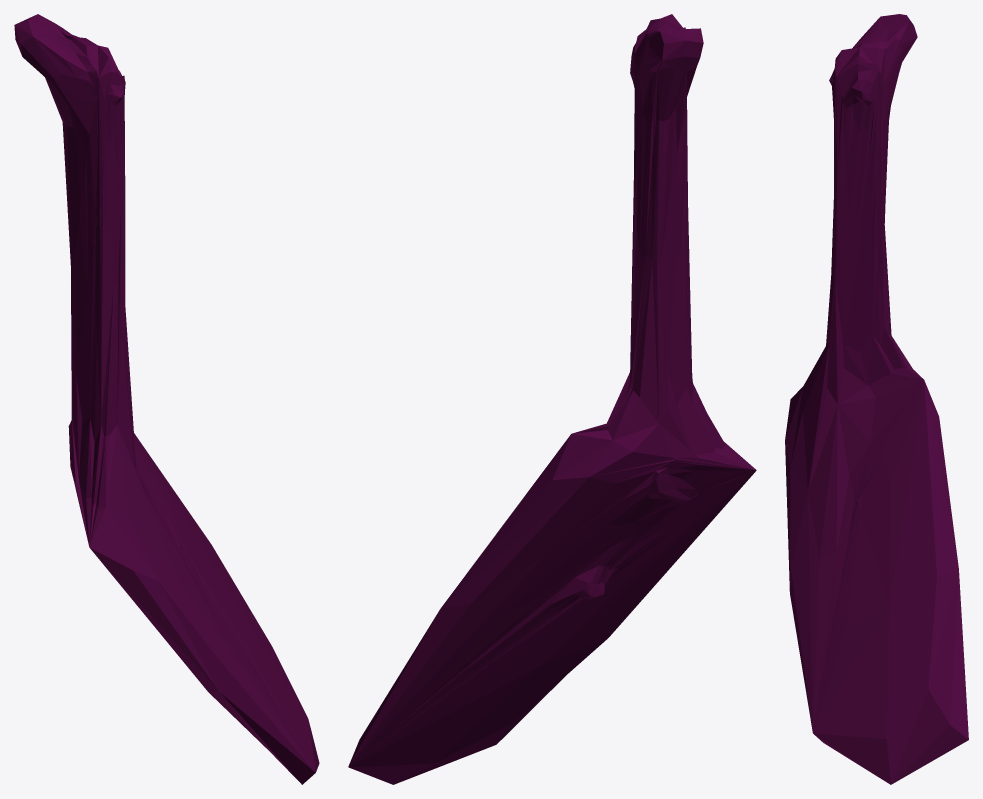
3 renders of one model, left to right at view 1: azimuth 30°, elevation 25°; view 2: azimuth 150°, elevation 25°; view 3: azimuth 270°, elevation 25°, orthographic. The views are drawn at different scales.
Parts seen in each view (by area): view 1: 923_Cube.3732; view 2: 923_Cube.3732; view 3: 923_Cube.3732.
Boxes of the visible parts, x1,y1,x2,y2 form: 923_Cube.3732: (14, 14, 319, 784); 923_Cube.3732: (348, 14, 756, 784); 923_Cube.3732: (785, 14, 968, 784).
Bounding box in the file's own units: 8.17 × 21.03 × 5.33.
